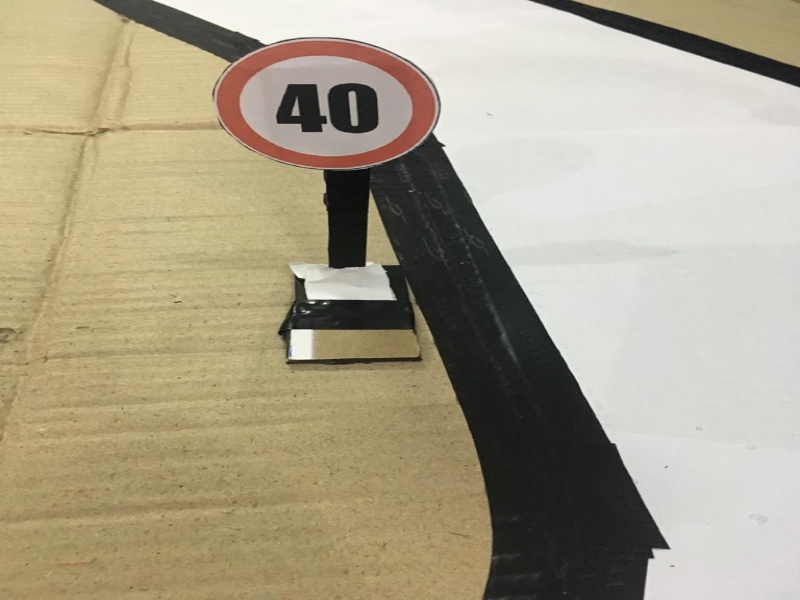Speed Limit 40: (201, 32, 445, 178)
